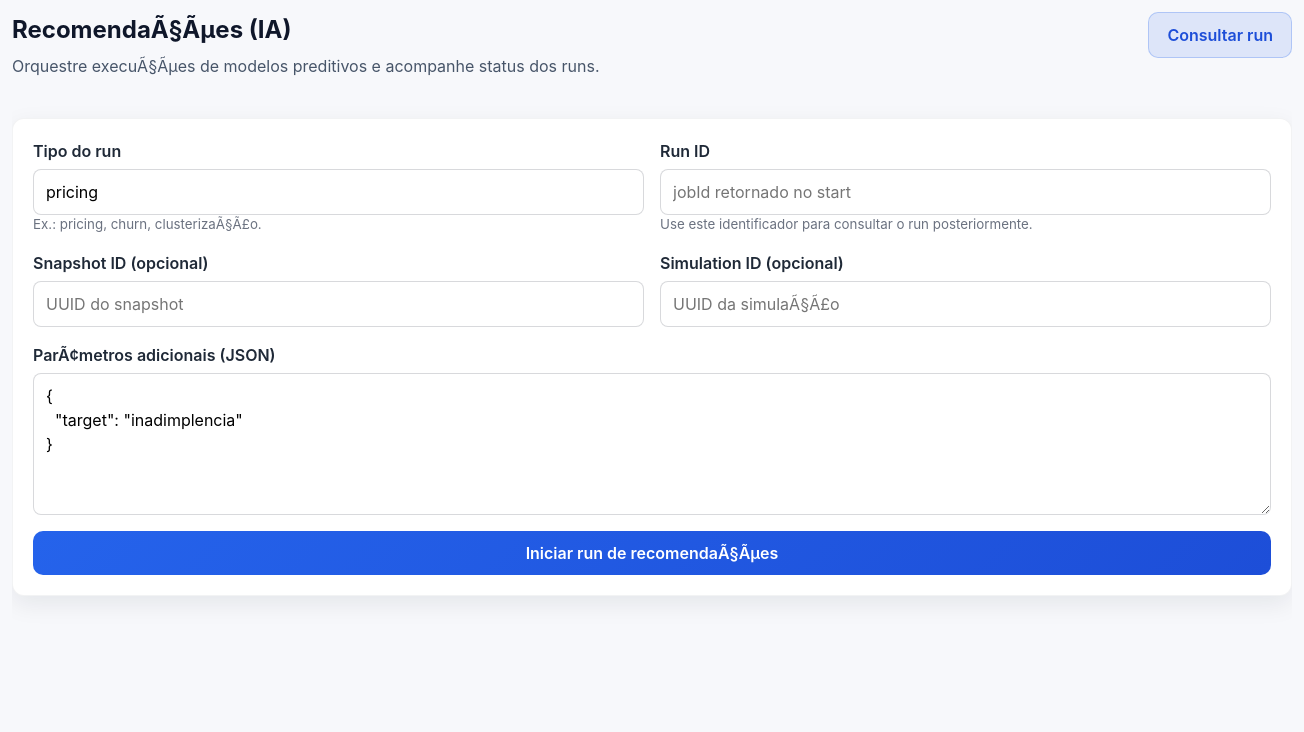
RecommendationsPage › should show fetching state on consult button
The image size is (1304, 732).
Type "job-123" into the field labelled "Run ID" at coordinates (966, 192), box left=660, top=169, right=1271, bottom=215
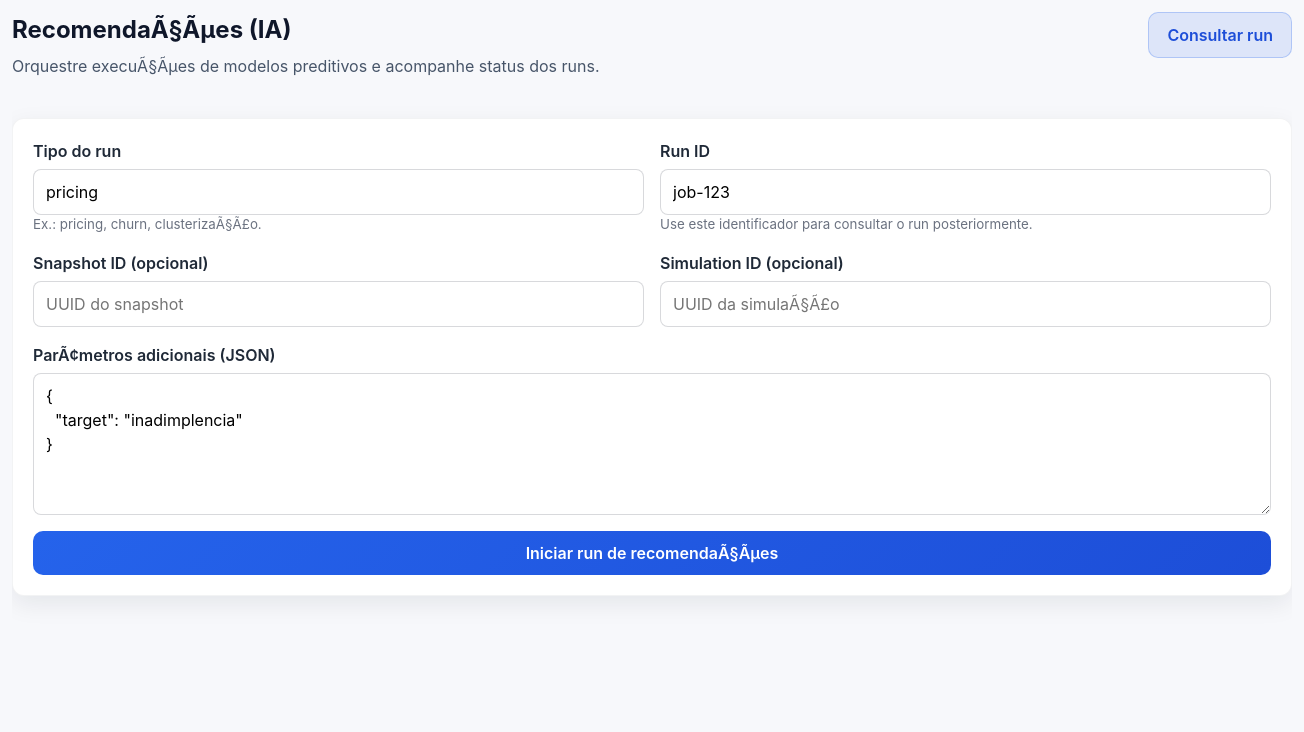
Click the button "Consultar run" at coordinates (1220, 35), box left=1148, top=12, right=1292, bottom=58
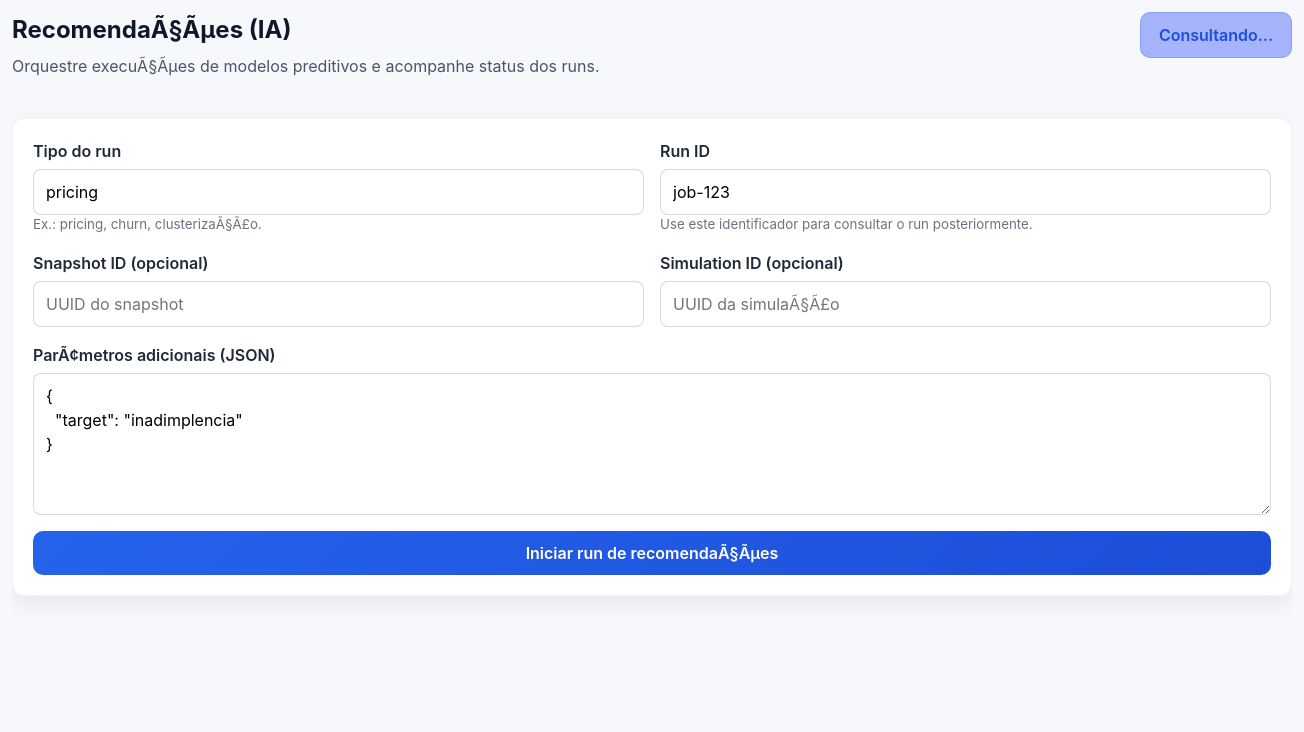
Check: the button "Consultando..." is shown, box left=1140, top=12, right=1292, bottom=58
